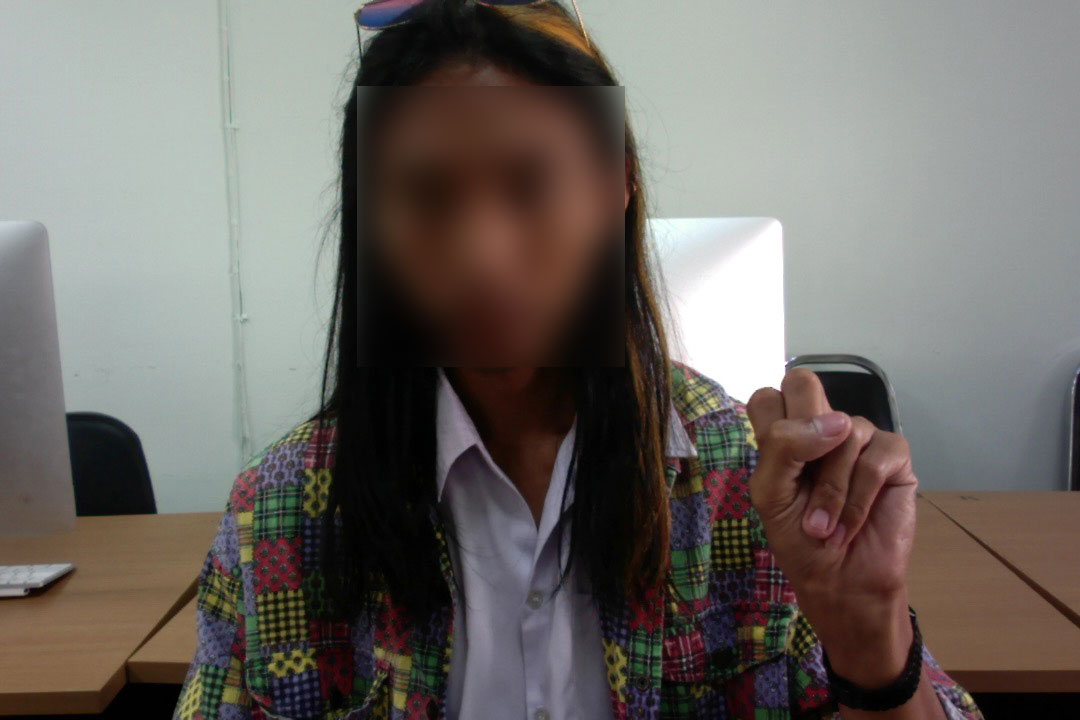nor: (740, 356, 927, 651)
